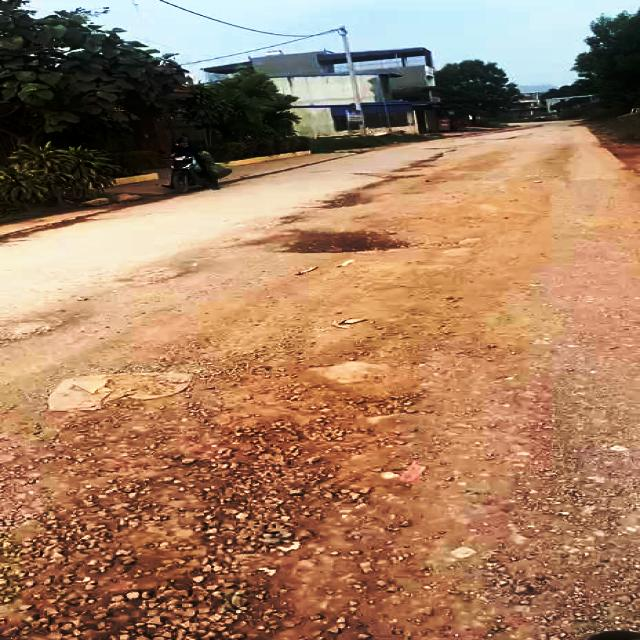pothole: (266, 227, 421, 254), (313, 190, 378, 210)
